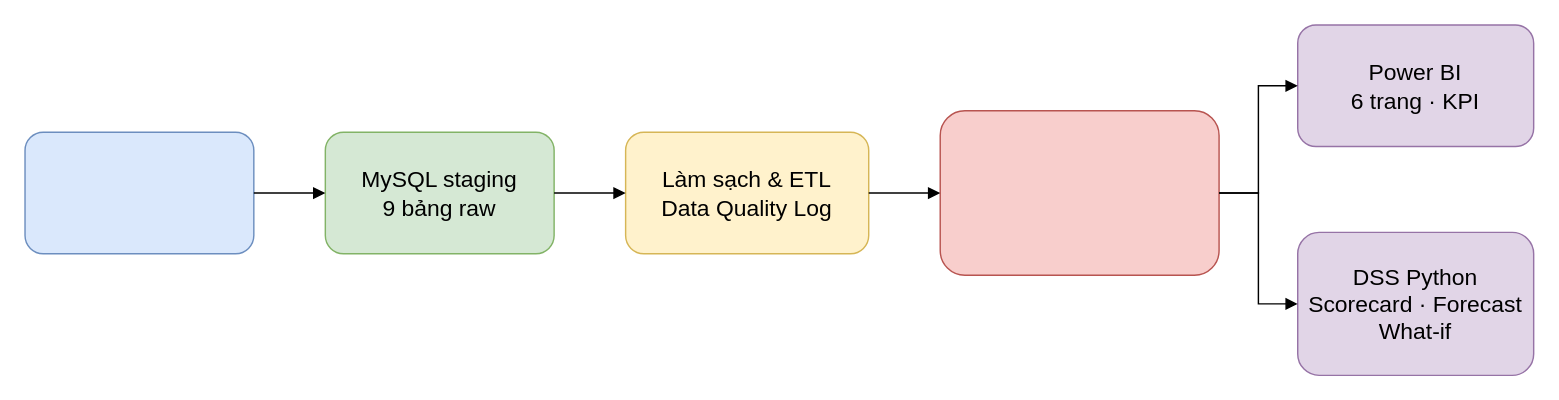
Some shapes in this 1559 by 400 pixel diagram are drawn without their labels. The shapes that lost their labels are listed below. From the top down, each one's centre as x and y in pixels, then its label:
At (139,192): "9 CSV Olist Dữ liệu lịch sử".
At (1079,192): "MySQL Data Warehouse 6 dimension · 4 fact Reconciliation".
